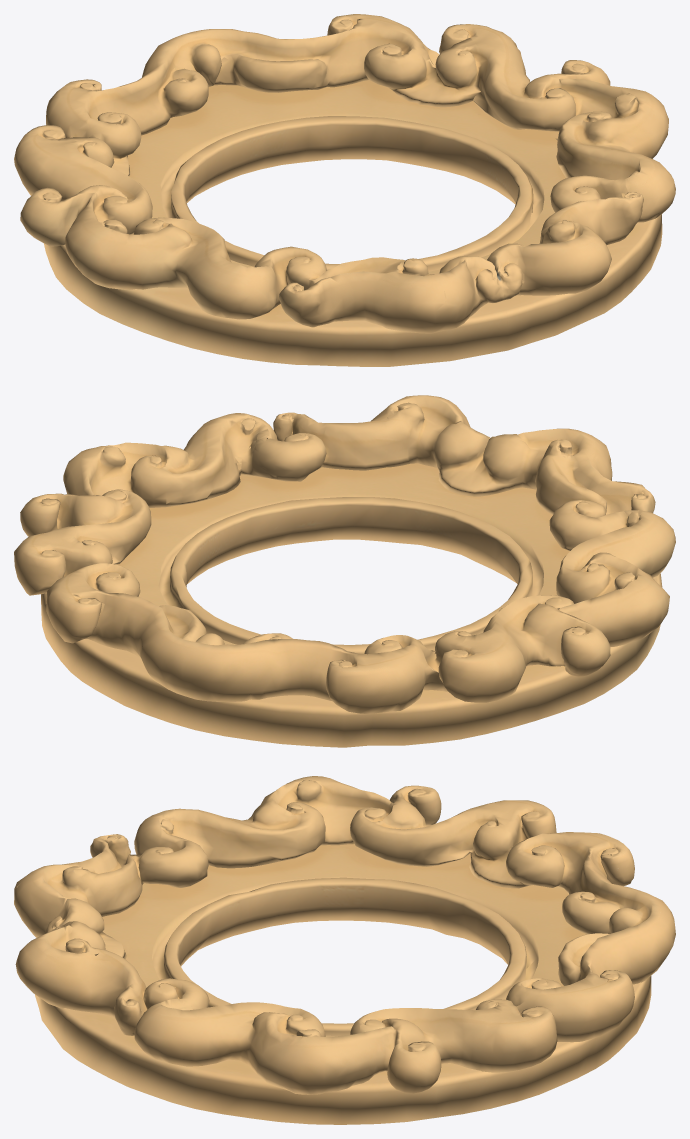
The model's file is vong-may-ngu-sac-3d.glb.
3 views of the same model, one above another, from view 1: azimuth 30°, elevation 25°; view 2: azimuth 150°, elevation 25°; view 3: azimuth 270°, elevation 25° (orthographic).
Bounding box in the file's own units: 0.9546 × 0.1445 × 0.9385.
1 material, 1 textured.
